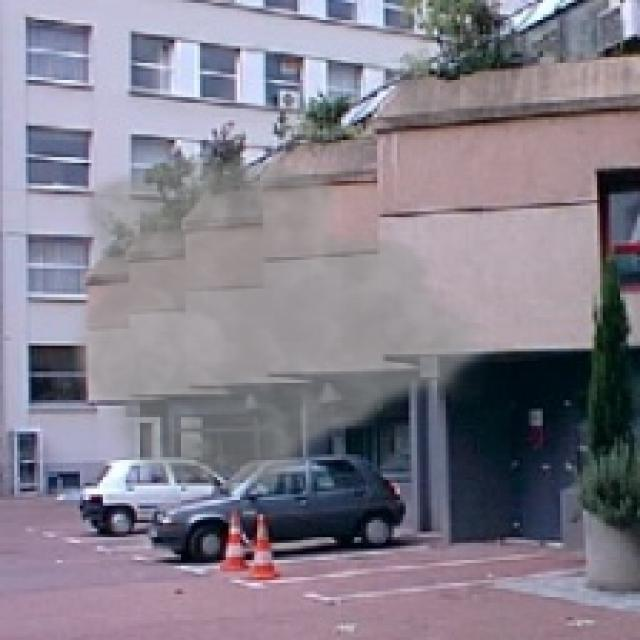smoke: (66, 149, 491, 500)
